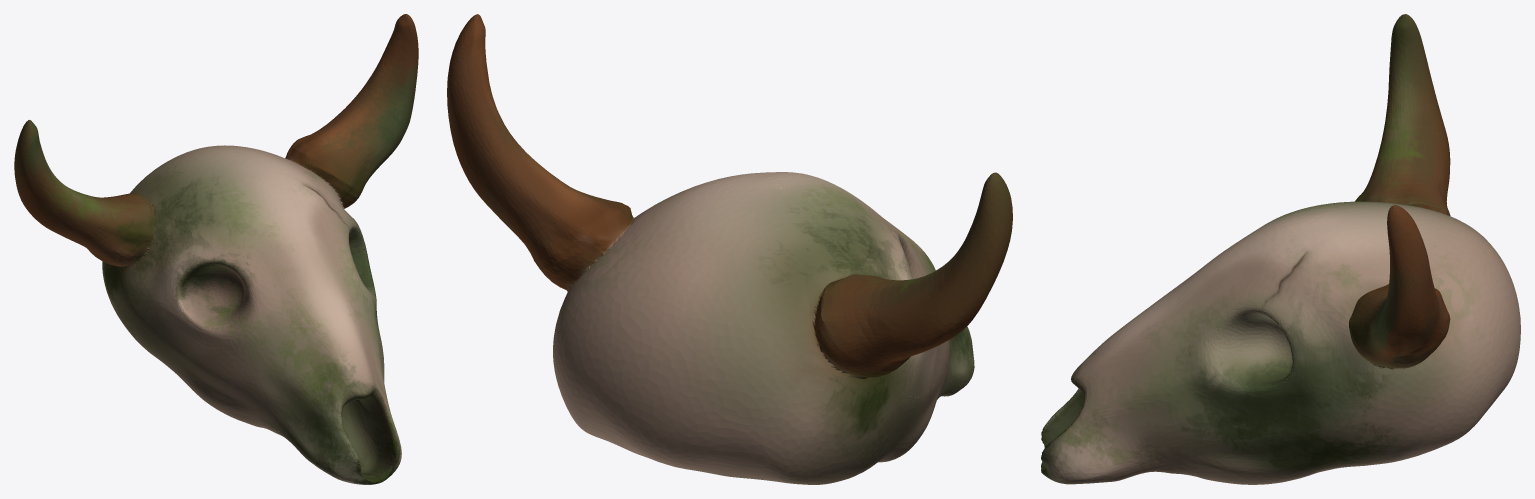
File: skull_aksinia.obj
3 renders of one model, left to right at view 1: azimuth 30°, elevation 25°; view 2: azimuth 150°, elevation 25°; view 3: azimuth 270°, elevation 25°, orthographic. The views are drawn at different scales.
Parts seen in each view (by area): view 1: Cone_1_Cone_1_Cone_1; view 2: Cone_1_Cone_1_Cone_1; view 3: Cone_1_Cone_1_Cone_1.
Part boxes in pixels (box(x1,y1,x2,y2)): Cone_1_Cone_1_Cone_1: box(14, 14, 418, 484); Cone_1_Cone_1_Cone_1: box(447, 14, 1012, 484); Cone_1_Cone_1_Cone_1: box(1041, 14, 1520, 484).
Bounding box in the file's own units: 1.43 × 1.09 × 1.28.
1 material, 1 textured.
